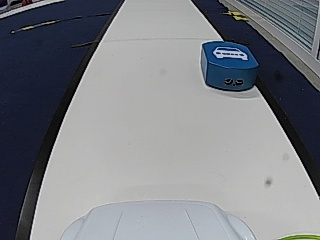safety: (213, 46, 248, 60)
